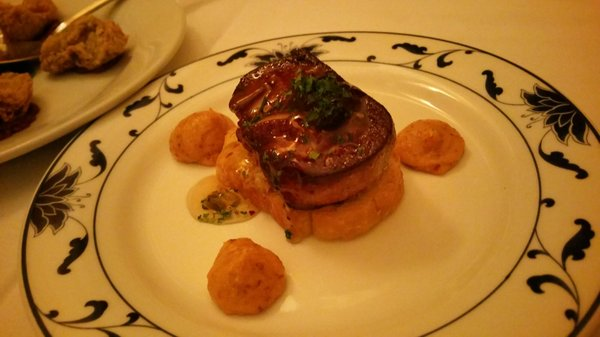curry: (2, 3, 592, 334)
